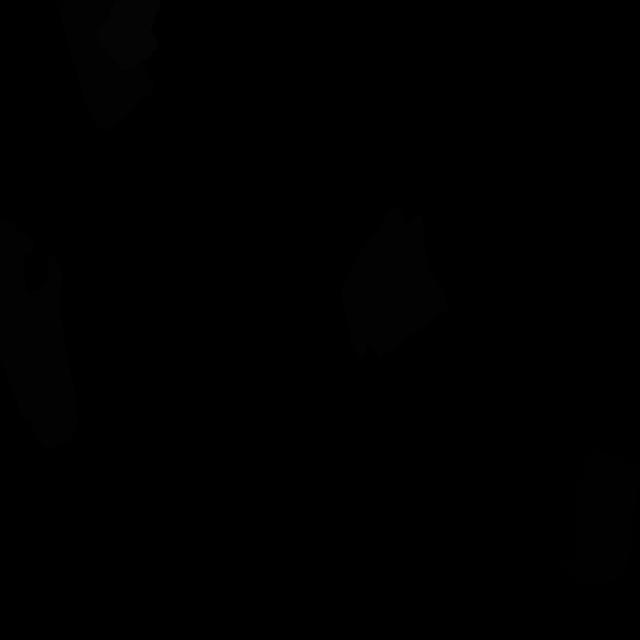cardboard: (0, 221, 77, 451), (341, 207, 451, 361), (56, 0, 154, 131)
rigid_plastic: (551, 445, 640, 585)
soft_plastic: (95, 0, 160, 71)
